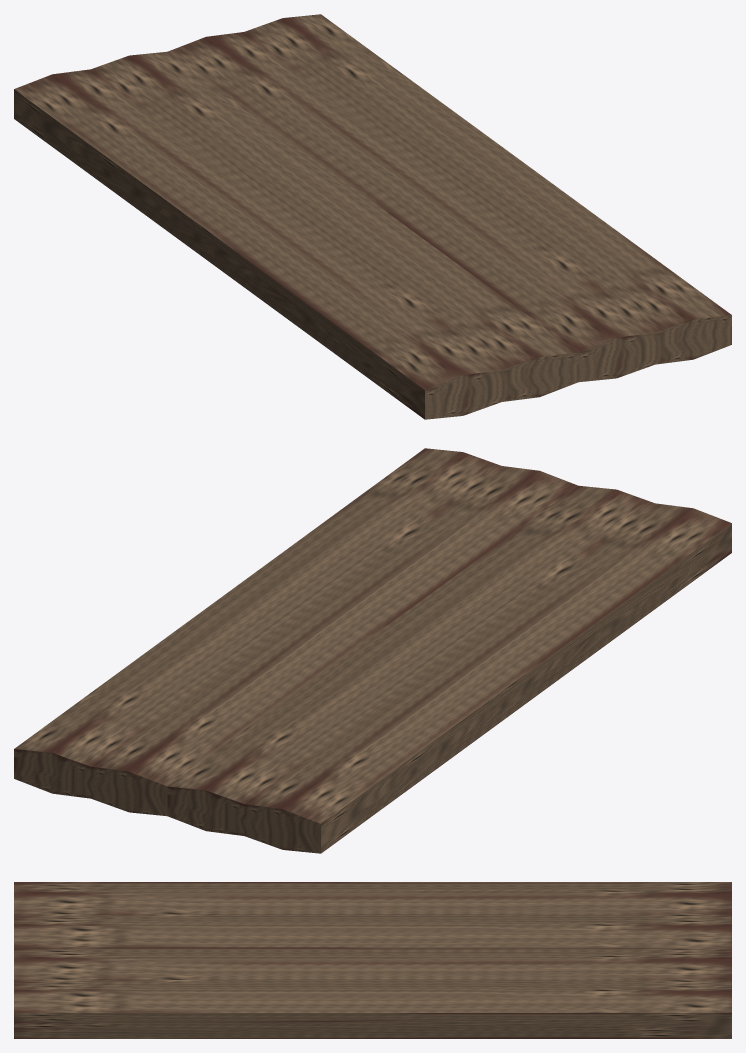
The model's file is Floorwood.fbx.
The picture shows the model from 3 angles, top to bottom: view 1: azimuth 30°, elevation 25°; view 2: azimuth 150°, elevation 25°; view 3: azimuth 270°, elevation 25°; orthographic projection. The views are drawn at different scales.
Visible parts, largest first — view 1: Planka.004; view 2: Planka.004; view 3: Planka.004.
Boxes of the visible parts, <box> form: Planka.004: <box>14,14,731,419</box>; Planka.004: <box>14,448,731,853</box>; Planka.004: <box>14,882,731,1038</box>.
Bounding box in the file's own units: 171 × 21.67 × 396.
1 material, 1 textured.
